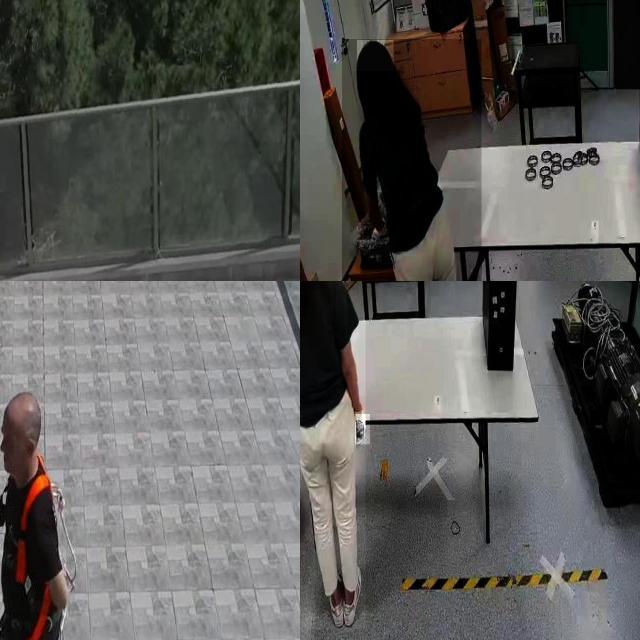Harness: (17, 472, 78, 640)
hand_glove: (355, 414, 371, 445)
head_nohelmet: (357, 40, 394, 72)
person: (342, 38, 482, 281), (300, 281, 366, 630)
shoes: (343, 562, 362, 629), (326, 568, 344, 631)
